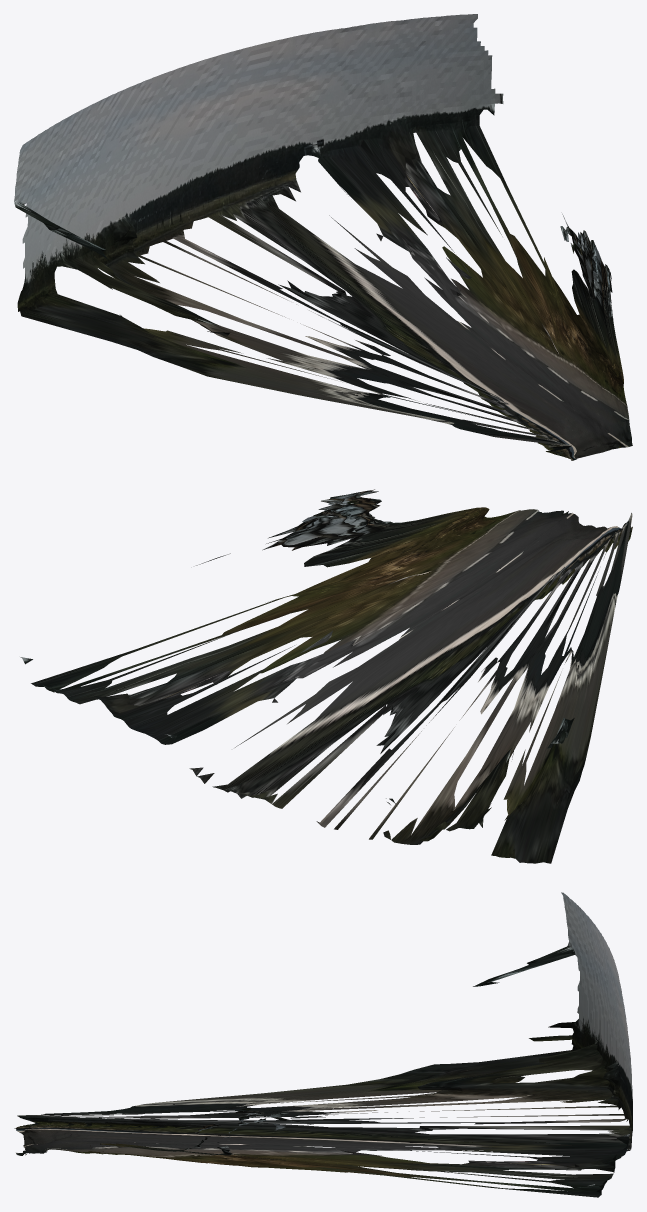
3 renders of one model, top to bottom at view 1: azimuth 30°, elevation 25°; view 2: azimuth 150°, elevation 25°; view 3: azimuth 270°, elevation 25°, orthographic. The views are drawn at different scales.
Visible parts, largest first — view 1: defaultobject; view 2: defaultobject; view 3: defaultobject.
Part boxes in pixels (x1,y1,x2,y2): defaultobject: (14,14,632,460); defaultobject: (20,489,632,863); defaultobject: (14,892,632,1197).
Size of the model in its own units: 37.2 by 13.41 by 44.85.
Materials: 1 (1 with a texture image).
